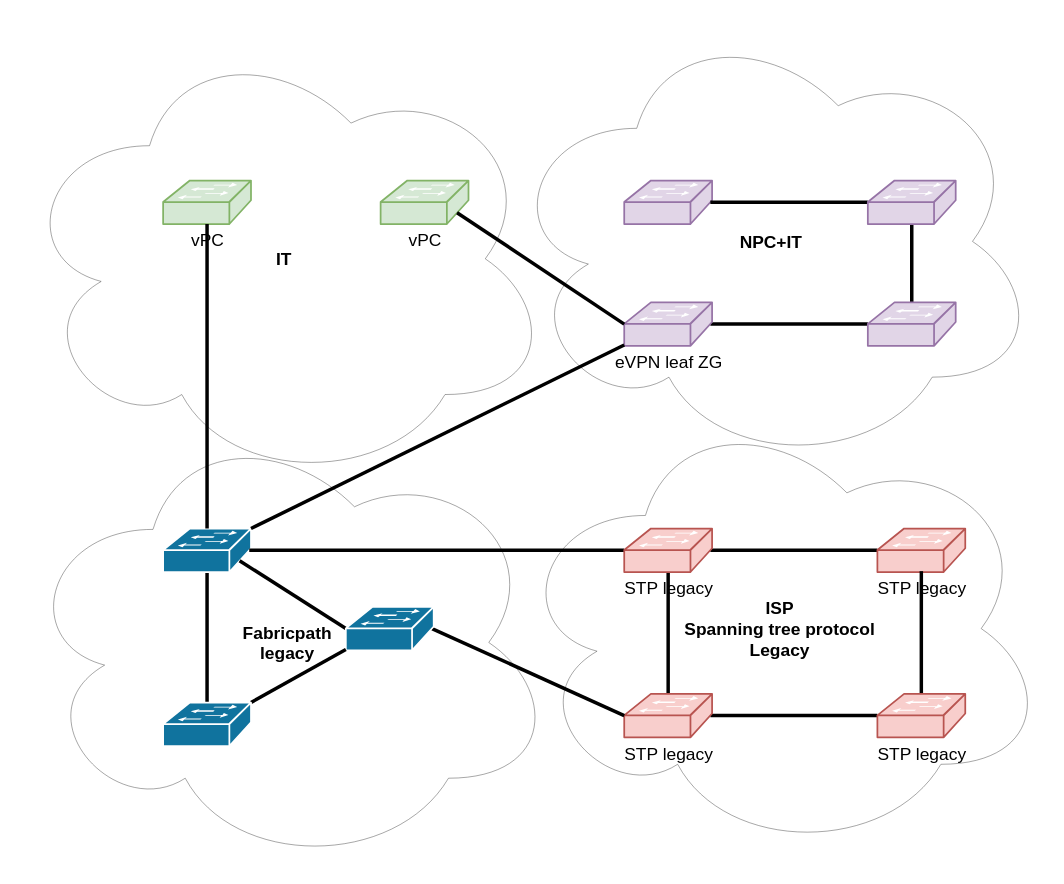
The diagram is 1064 pixels wide and 884 high, and some of its shapes have lost their labels. Each missing label, with the centre of its shape:
CTE01/02: the point at 206,723
CUT01/02: the point at 206,549
CVZ01/02: the point at 389,628
eVPN leaf VZ: the point at 668,201
eVPN spine VZ: the point at 911,201
eVPN spine ZG: the point at 911,323
